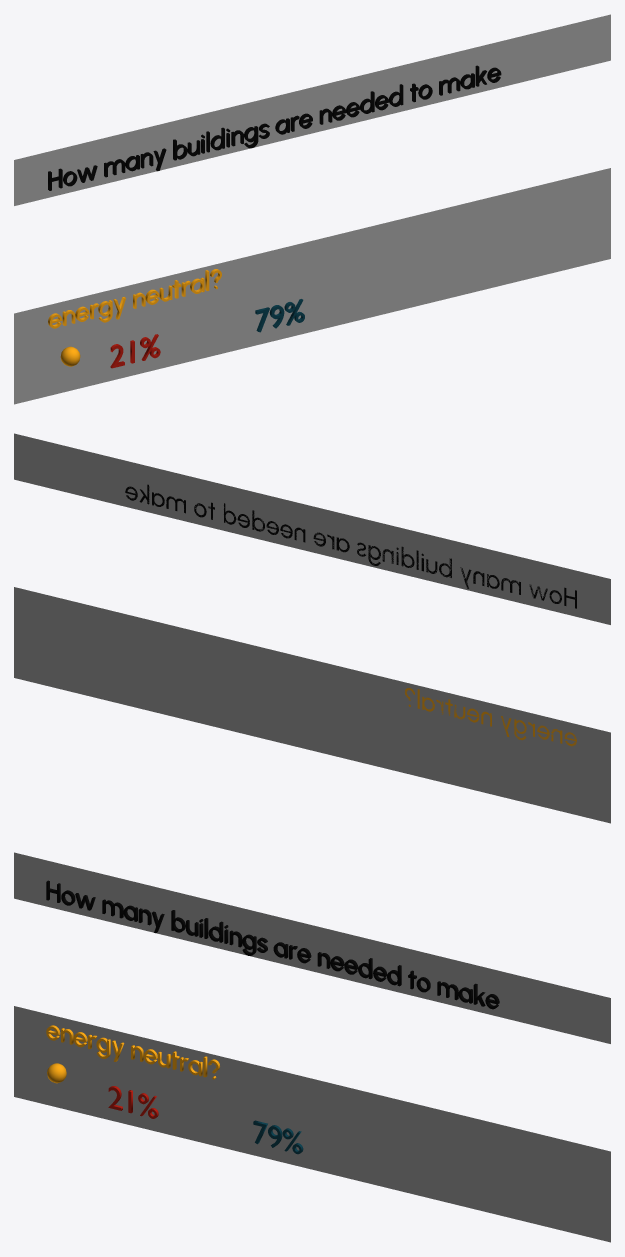
Rendered from Question.gltf.
3 renders of one model, top to bottom at view 1: azimuth 30°, elevation 25°; view 2: azimuth 150°, elevation 25°; view 3: azimuth 330°, elevation 25°, orthographic.
Visible parts, largest first — view 1: Plane.009, Plane.008, Text.009, Text.012, Text.008, Text; view 2: Plane.009, Plane.008, Text.009, Text.012; view 3: Plane.009, Plane.008, Text.009, Text.012, Text.008, Text.
Boxes of the visible parts, left/top/right/bottom form: Plane.009: left=14, top=168, right=610, bottom=404; Plane.008: left=14, top=14, right=610, bottom=205; Text.009: left=48, top=65, right=501, bottom=190; Text.012: left=48, top=269, right=221, bottom=328; Text.008: left=255, top=299, right=304, bottom=332; Text: left=110, top=334, right=160, bottom=368; Plane.009: left=14, top=587, right=610, bottom=823; Plane.008: left=14, top=433, right=610, bottom=624; Text.009: left=125, top=484, right=576, bottom=608; Text.012: left=405, top=688, right=576, bottom=746; Plane.009: left=14, top=1006, right=610, bottom=1242; Plane.008: left=14, top=852, right=610, bottom=1043; Text.009: left=46, top=880, right=499, bottom=1009; Text.012: left=46, top=1025, right=219, bottom=1079; Text.008: left=253, top=1120, right=303, bottom=1154; Text: left=108, top=1086, right=158, bottom=1118.
Size of the model in its own units: 1 by 0.3913 by 0.0343.
